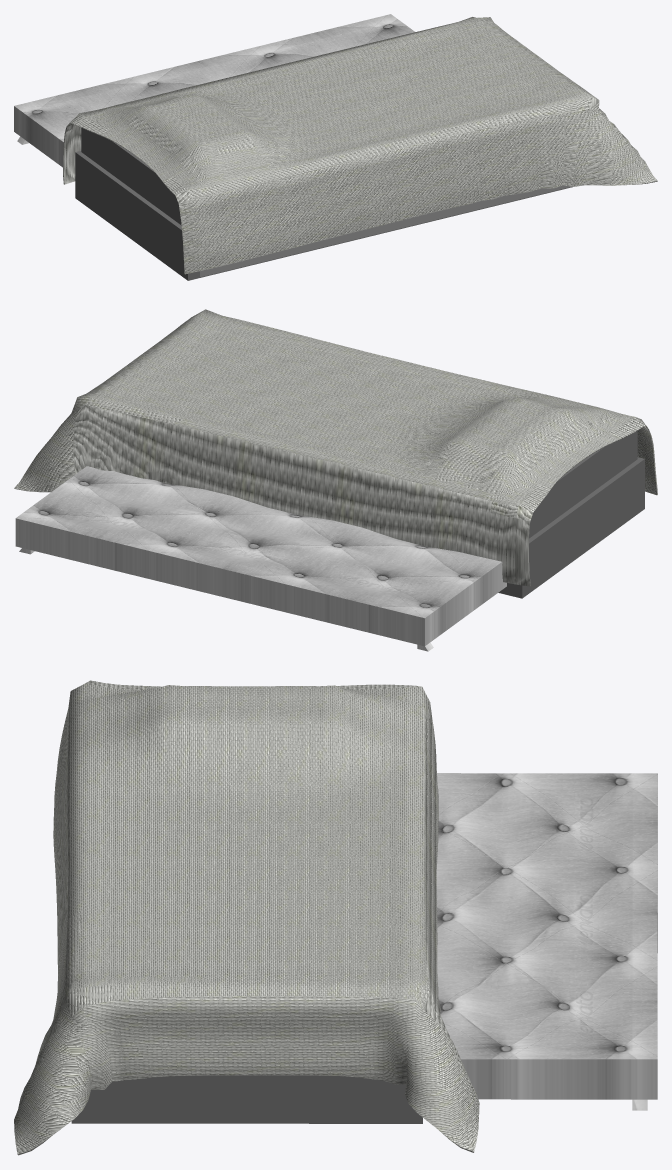
The model's file is cama.glb.
3 renders of one model, top to bottom at view 1: azimuth 30°, elevation 25°; view 2: azimuth 150°, elevation 25°; view 3: azimuth 270°, elevation 25°, orthographic. The views are drawn at different scales.
Visible parts, largest first — view 1: pCube5_BlanketTexture_0; view 2: pCube5_BlanketTexture_0; view 3: pCube5_BlanketTexture_0.
Boxes of the visible parts, x1,y1,x2,y2 form: pCube5_BlanketTexture_0: (14, 14, 657, 280); pCube5_BlanketTexture_0: (14, 309, 657, 651); pCube5_BlanketTexture_0: (14, 680, 657, 1155).
Size of the model in its own units: 16.95 by 3.64 by 13.15.
Materials: 3 (2 with a texture image).
